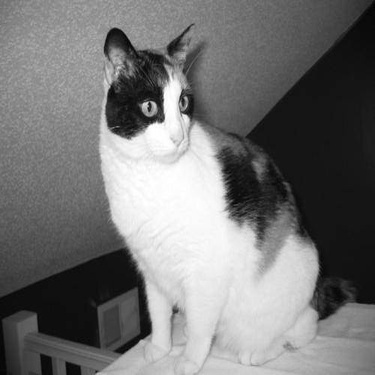cat: (68, 18, 326, 337)
